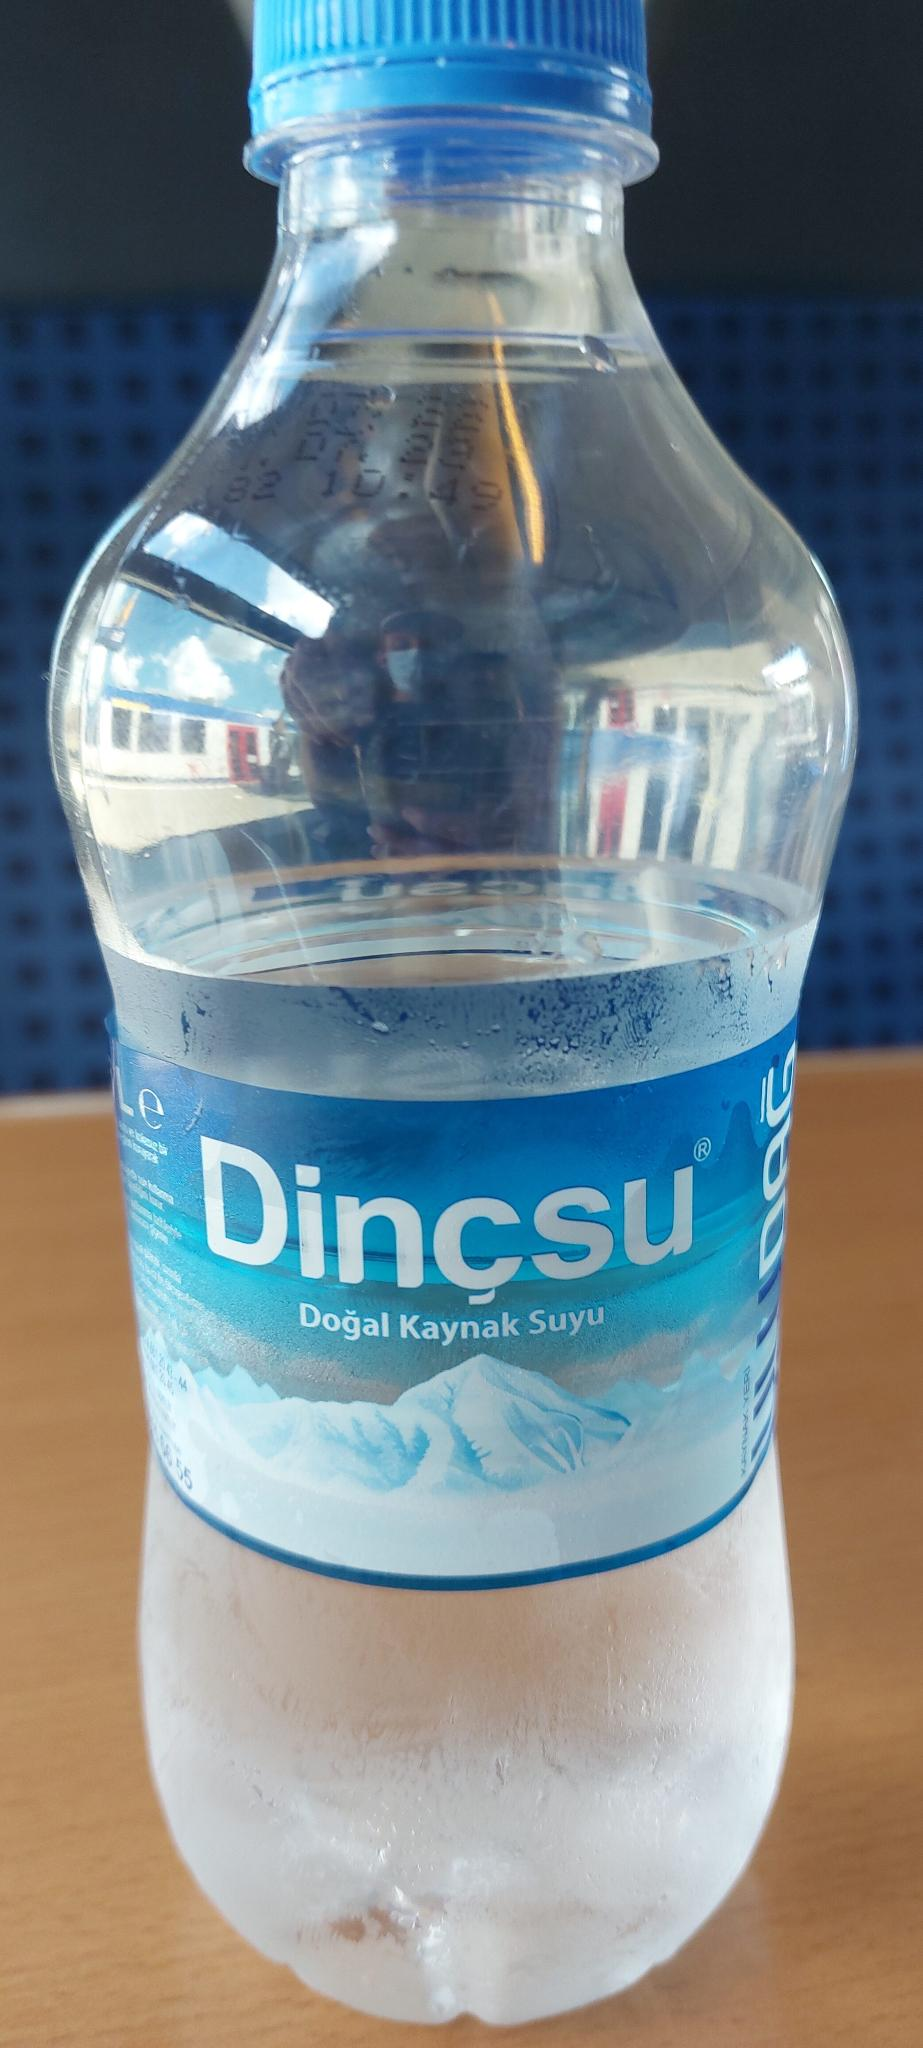plastic: (51, 0, 858, 2023)
